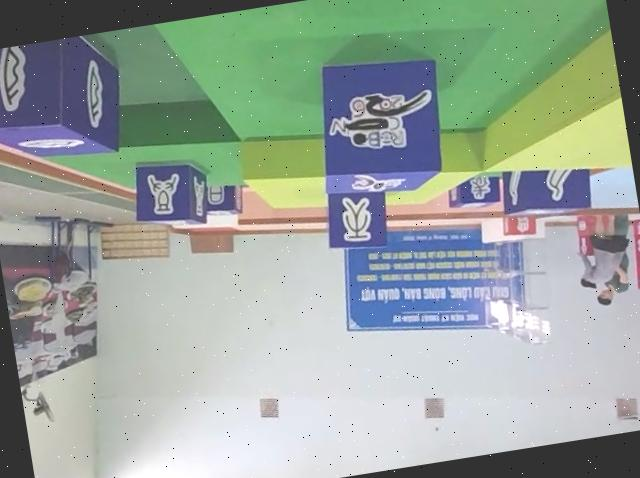R1 Blue: (306, 47, 454, 202)
R2 Fake Blue: (319, 182, 393, 254), (443, 172, 502, 212), (200, 180, 246, 219)
R2 Real Blue: (0, 30, 130, 172), (127, 152, 212, 234), (495, 157, 595, 223)
